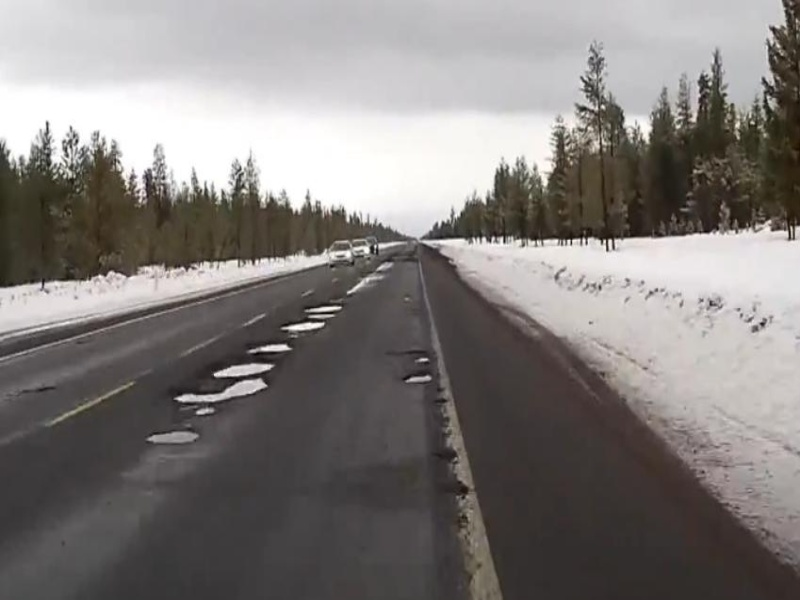pothole: (173, 377, 269, 408), (209, 360, 279, 380), (140, 426, 204, 446), (239, 342, 294, 357), (275, 319, 323, 334), (301, 302, 340, 316), (397, 373, 434, 384), (412, 353, 433, 365)
